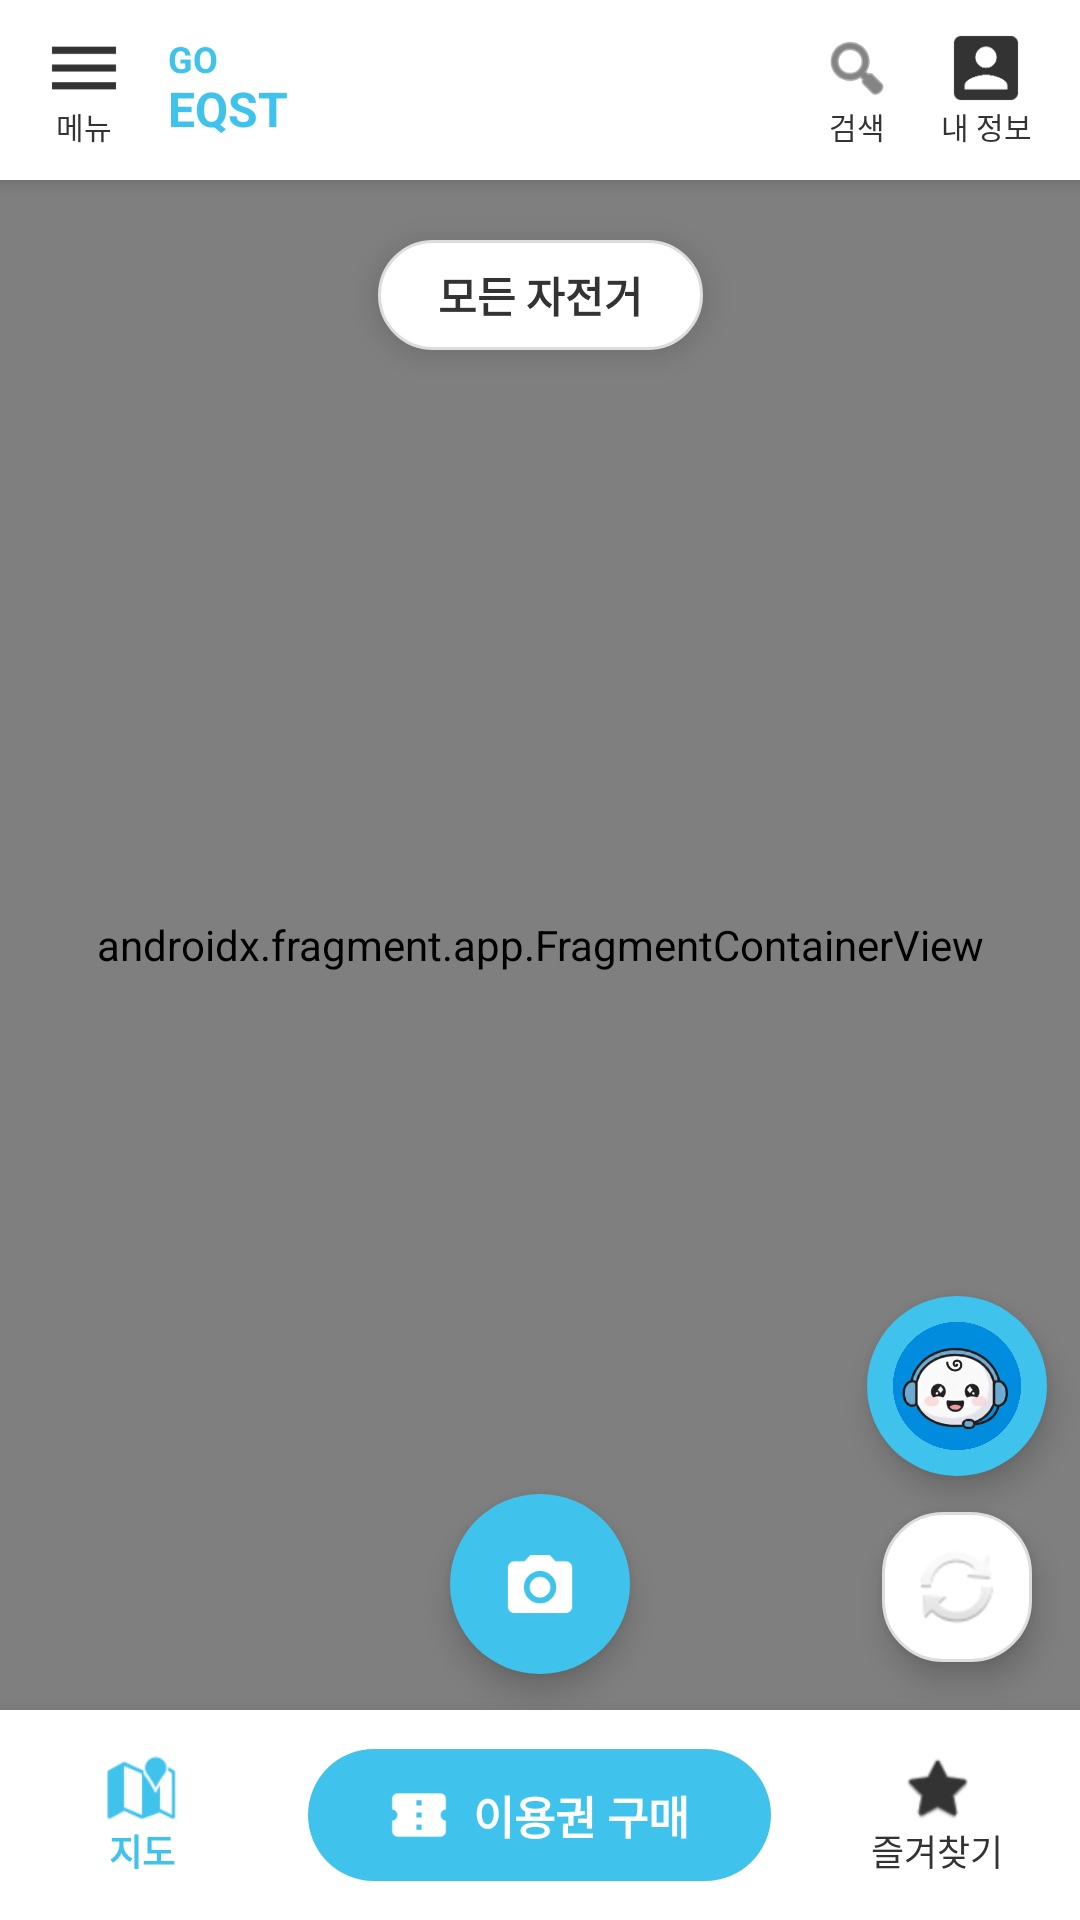

Screen size 1080w x 1920h. Icon name, then its box in pixels as bbox=[x1, y1, x2, y2]:
camera: bbox=[450, 1494, 630, 1674]
chatbot: bbox=[867, 1296, 1047, 1476]
confirmation number: bbox=[392, 1793, 446, 1837]
popup sync: bbox=[882, 1512, 1032, 1662]
